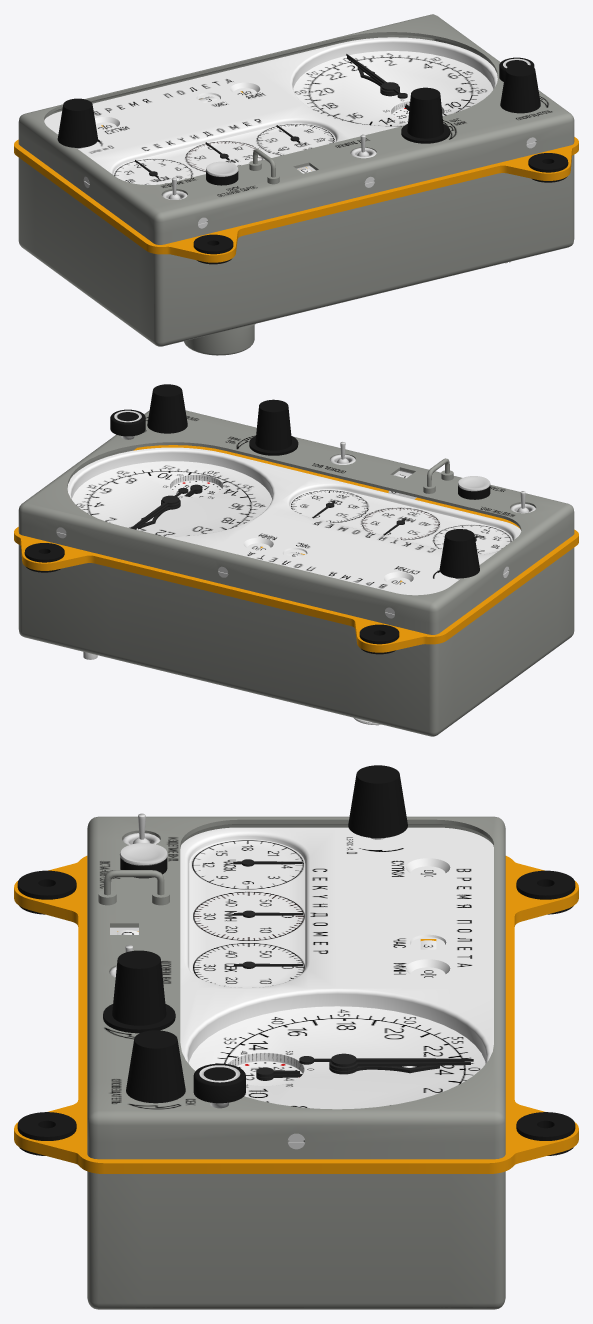
The model's file is SoyuzElectroMechanicalSpaceClock_011.glb.
The picture shows the model from 3 angles, top to bottom: view 1: azimuth 30°, elevation 25°; view 2: azimuth 150°, elevation 25°; view 3: azimuth 270°, elevation 25°; orthographic projection. The views are drawn at different scales.
Visible parts, largest first — view 1: bottom_cap, plate_face, top_cap, flipped_plate, time_adjust, alarm_adjust_nob, clear_to_zero_nob, cap, bump_rubber.003, bump_rubber.004; view 2: bottom_cap, plate_face, top_cap, flipped_plate, time_adjust, alarm_adjust_nob, clear_to_zero_nob, advance_second_hand, bump_rubber.001, bump_rubber.002; view 3: plate_face, bottom_cap, top_cap, flipped_plate, time_adjust, clear_to_zero_nob, alarm_adjust_nob, advance_second_hand, bump_rubber.001, bump_rubber.003, bump_rubber.002, bump_rubber.004 (+3 smaller).
Part boxes in pixels (<box>): bottom_cap: <box>18,155,574,346</box>; plate_face: <box>44,37,497,184</box>; top_cap: <box>18,14,574,244</box>; flipped_plate: <box>14,91,578,262</box>; time_adjust: <box>401,87,450,143</box>; alarm_adjust_nob: <box>500,64,540,113</box>; clear_to_zero_nob: <box>57,98,97,147</box>; cap: <box>184,323,255,355</box>; bump_rubber.003: <box>193,234,233,264</box>; bump_rubber.004: <box>528,153,568,182</box>; bottom_cap: <box>18,545,574,736</box>; plate_face: <box>67,447,521,595</box>; top_cap: <box>18,410,574,634</box>; flipped_plate: <box>14,445,578,652</box>; time_adjust: <box>249,399,298,455</box>; alarm_adjust_nob: <box>147,384,187,433</box>; clear_to_zero_nob: <box>439,529,479,578</box>; advance_second_hand: <box>110,409,145,436</box>; bump_rubber.001: <box>359,624,399,654</box>; bump_rubber.002: <box>24,543,64,572</box>; plate_face: <box>180,827,493,1109</box>; bottom_cap: <box>87,1171,505,1309</box>; top_cap: <box>87,816,505,1159</box>; flipped_plate: <box>14,856,578,1173</box>; time_adjust: <box>103,950,175,1033</box>; clear_to_zero_nob: <box>348,765,407,838</box>; alarm_adjust_nob: <box>126,1030,185,1103</box>; advance_second_hand: <box>193,1063,245,1103</box>; bump_rubber.001: <box>516,870,575,914</box>; bump_rubber.003: <box>17,870,76,914</box>; bump_rubber.002: <box>516,1112,575,1155</box>; bump_rubber.004: <box>17,1112,76,1155</box>.
Size of the model in its own units: 0.1581 by 0.0717 by 0.1216.
20 materials, 11 textured.
